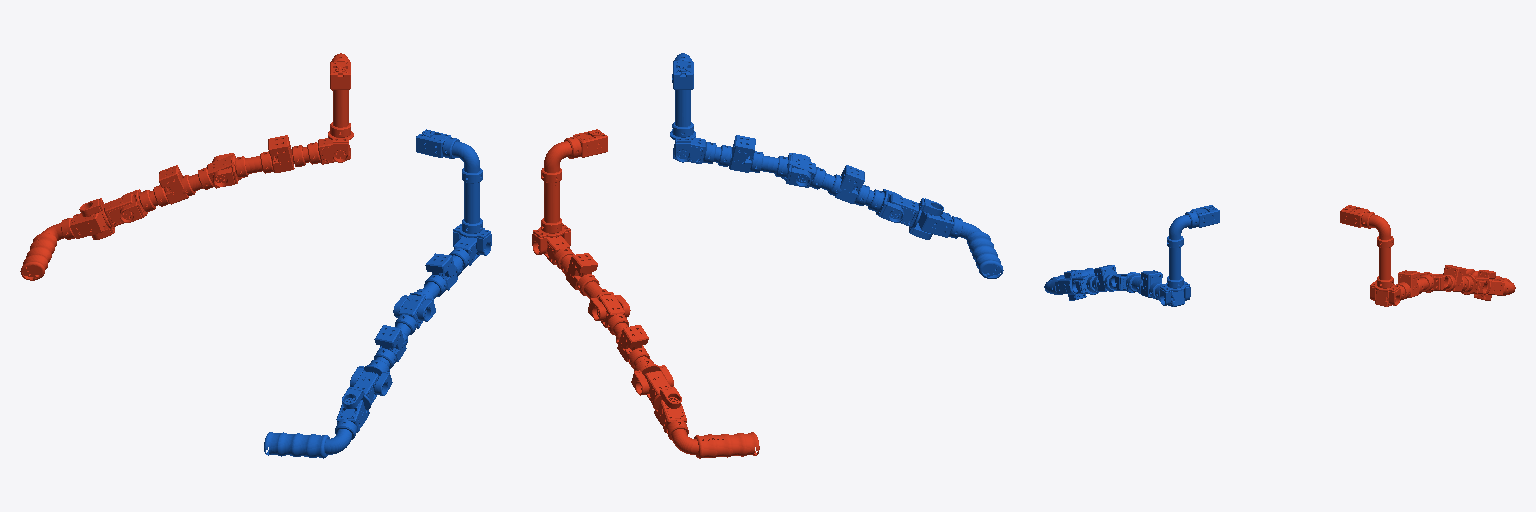
robot.urdf — dracomancer:
<?xml version='1.0' encoding='utf-8'?>
<robot name="dracomancer">
  <!--Mannequin excluded. q=0 is the CAD export pose. Continuous joints are provisional; hardware limits are unknown.-->
  <link name="base_link">
    <inertial>
      <origin xyz="0.538297841211797 7.71429791632174e-05 0.0394609993474961" rpy="0 0 0" />
      <mass value="1.12193720771918" />
      <inertia ixx="0.00608085027046048" ixy="1.6102669909721e-05" ixz="-0.00246744714079603" iyy="0.0143480736279953" iyz="1.38983508081588e-06" izz="0.01668873664382" />
    </inertial>
    <visual>
      <origin xyz="0 0 0" rpy="1.5707963267949 0 1.5707963267949" />
      <geometry>
        <mesh filename="package://dracomancer/meshes/base.stl" scale="1 1 1" />
      </geometry>
      <material name="color_base_link">
        <color rgba="0.45 0.48 0.52 1" />
      </material>
    </visual>
    <collision>
      <origin xyz="0 0 0" rpy="1.5707963267949 0 1.5707963267949" />
      <geometry>
        <mesh filename="package://dracomancer/meshes/base.stl" scale="1 1 1" />
      </geometry>
    </collision>
  </link>
  <link name="right_link1_shoulder">
    <inertial>
      <origin xyz="-2.22054765015818e-06 -0.0623248806898595 0.0537570317000164" rpy="0 0 0" />
      <mass value="0.311033190448667" />
      <inertia ixx="0.00184709302301005" ixy="-2.30803069612402e-08" ixz="8.28095308956081e-09" iyy="0.00136038129198454" iyz="0.000554003802814448" izz="0.00053989042537464" />
    </inertial>
    <visual>
      <origin xyz="0 0 0" rpy="0 0 0" />
      <geometry>
        <mesh filename="package://dracomancer/meshes/link1_shoulder.stl" scale="1 1 1" />
      </geometry>
      <material name="color_right_link1_shoulder">
        <color rgba="0.15 0.42 0.78 1" />
      </material>
    </visual>
    <collision>
      <origin xyz="0 0 0" rpy="0 0 0" />
      <geometry>
        <mesh filename="package://dracomancer/meshes/link1_shoulder.stl" scale="1 1 1" />
      </geometry>
    </collision>
  </link>
  <link name="right_link2_upper_arm_upper">
    <inertial>
      <origin xyz="-3.85946855000866e-09 -0.0295644761615872 0.000334681730333839" rpy="0 0 0" />
      <mass value="0.159071368425311" />
      <inertia ixx="0.00015395693183761" ixy="-1.98221699093399e-11" ixz="-7.39384026757579e-13" iyy="3.05732363744265e-05" iyz="-1.06306497457957e-06" izz="0.000154185767444511" />
    </inertial>
    <visual>
      <origin xyz="0 0 0" rpy="0 0 0" />
      <geometry>
        <mesh filename="package://dracomancer/meshes/link2_upper_arm_upper.stl" scale="1 1 1" />
      </geometry>
      <material name="color_right_link2_upper_arm_upper">
        <color rgba="0.15 0.42 0.78 1" />
      </material>
    </visual>
    <collision>
      <origin xyz="0 0 0" rpy="0 0 0" />
      <geometry>
        <mesh filename="package://dracomancer/meshes/link2_upper_arm_upper.stl" scale="1 1 1" />
      </geometry>
    </collision>
  </link>
  <link name="right_link3_upper_arm_lower">
    <inertial>
      <origin xyz="-2.97656988118984e-06 -0.00669352163145934 -0.0271761889340157" rpy="0 0 0" />
      <mass value="0.202851713995559" />
      <inertia ixx="0.000294829882555397" ixy="-1.46151737643307e-08" ixz="3.55109407912184e-09" iyy="0.000286653907320972" iyz="3.55213110018567e-05" izz="7.86474683477143e-05" />
    </inertial>
    <visual>
      <origin xyz="0 0 0" rpy="0 0 0" />
      <geometry>
        <mesh filename="package://dracomancer/meshes/link3_upper_arm_lower.stl" scale="1 1 1" />
      </geometry>
      <material name="color_right_link3_upper_arm_lower">
        <color rgba="0.15 0.42 0.78 1" />
      </material>
    </visual>
    <collision>
      <origin xyz="0 0 0" rpy="0 0 0" />
      <geometry>
        <mesh filename="package://dracomancer/meshes/link3_upper_arm_lower.stl" scale="1 1 1" />
      </geometry>
    </collision>
  </link>
  <link name="right_link4_lower_arm_upper">
    <inertial>
      <origin xyz="-3.85946855014225e-09 -0.0295644761615872 0.000334681730333784" rpy="0 0 0" />
      <mass value="0.159071368425311" />
      <inertia ixx="0.00015395693183761" ixy="-1.98221699232484e-11" ixz="-7.39384025317761e-13" iyy="3.05732363744266e-05" iyz="-1.06306497457958e-06" izz="0.000154185767444511" />
    </inertial>
    <visual>
      <origin xyz="0 0 0" rpy="0 0 0" />
      <geometry>
        <mesh filename="package://dracomancer/meshes/link4_lower_arm_upper.stl" scale="1 1 1" />
      </geometry>
      <material name="color_right_link4_lower_arm_upper">
        <color rgba="0.15 0.42 0.78 1" />
      </material>
    </visual>
    <collision>
      <origin xyz="0 0 0" rpy="0 0 0" />
      <geometry>
        <mesh filename="package://dracomancer/meshes/link4_lower_arm_upper.stl" scale="1 1 1" />
      </geometry>
    </collision>
  </link>
  <link name="right_link5_lower_arm_lower">
    <inertial>
      <origin xyz="-2.97656988122939e-06 -0.00669352163145912 -0.0271761889340158" rpy="0 0 0" />
      <mass value="0.202851713995559" />
      <inertia ixx="0.000294829882555399" ixy="-1.46151737642407e-08" ixz="3.55109407857361e-09" iyy="0.000286653907320974" iyz="3.55213110018573e-05" izz="7.86474683477144e-05" />
    </inertial>
    <visual>
      <origin xyz="0 0 0" rpy="0 0 0" />
      <geometry>
        <mesh filename="package://dracomancer/meshes/link5_lower_arm_lower.stl" scale="1 1 1" />
      </geometry>
      <material name="color_right_link5_lower_arm_lower">
        <color rgba="0.15 0.42 0.78 1" />
      </material>
    </visual>
    <collision>
      <origin xyz="0 0 0" rpy="0 0 0" />
      <geometry>
        <mesh filename="package://dracomancer/meshes/link5_lower_arm_lower.stl" scale="1 1 1" />
      </geometry>
    </collision>
  </link>
  <link name="right_link6_wrist_upper">
    <inertial>
      <origin xyz="0 -0.0221395746339372 0.000381004081849901" rpy="0 0 0" />
      <mass value="0.142115458481556" />
      <inertia ixx="9.32557597243337e-05" ixy="0" ixz="0" iyy="4.31340174898552e-05" iyz="-6.78069154759594e-07" izz="0.000108426371262755" />
    </inertial>
    <visual>
      <origin xyz="0 0 0" rpy="0 0 0" />
      <geometry>
        <mesh filename="package://dracomancer/meshes/link6_wrist_upper.stl" scale="1 1 1" />
      </geometry>
      <material name="color_right_link6_wrist_upper">
        <color rgba="0.15 0.42 0.78 1" />
      </material>
    </visual>
    <collision>
      <origin xyz="0 0 0" rpy="0 0 0" />
      <geometry>
        <mesh filename="package://dracomancer/meshes/link6_wrist_upper.stl" scale="1 1 1" />
      </geometry>
    </collision>
  </link>
  <link name="right_link7_wrist_lower">
    <inertial>
      <origin xyz="0.0397499857748888 -0.0627907132008446 0.000158967612462773" rpy="0 0 0" />
      <mass value="0.319082232072848" />
      <inertia ixx="0.000547068750649334" ixy="0.000415615963137919" ixz="2.1970737917657e-06" iyy="0.000717807823662787" iyz="-2.99281119292708e-06" izz="0.00120844468876245" />
    </inertial>
    <visual>
      <origin xyz="0 0 0" rpy="0 0 0" />
      <geometry>
        <mesh filename="package://dracomancer/meshes/link7_wrist_lower.stl" scale="1 1 1" />
      </geometry>
      <material name="color_right_link7_wrist_lower">
        <color rgba="0.15 0.42 0.78 1" />
      </material>
    </visual>
    <collision>
      <origin xyz="0 0 0" rpy="0 0 0" />
      <geometry>
        <mesh filename="package://dracomancer/meshes/link7_wrist_lower.stl" scale="1 1 1" />
      </geometry>
    </collision>
  </link>
  <link name="left_link1_shoulder">
    <inertial>
      <origin xyz="-2.22054765027062e-06 -0.0623248806898594 0.0537570317000164" rpy="0 0 0" />
      <mass value="0.311033190448667" />
      <inertia ixx="0.00184709302301005" ixy="-2.30803069612978e-08" ixz="8.28095308957365e-09" iyy="0.00136038129198454" iyz="0.000554003802814448" izz="0.00053989042537464" />
    </inertial>
    <visual>
      <origin xyz="0 0 0" rpy="0 0 0" />
      <geometry>
        <mesh filename="package://dracomancer/meshes/link1_shoulder.stl" scale="1 1 1" />
      </geometry>
      <material name="color_left_link1_shoulder">
        <color rgba="0.85 0.28 0.17 1" />
      </material>
    </visual>
    <collision>
      <origin xyz="0 0 0" rpy="0 0 0" />
      <geometry>
        <mesh filename="package://dracomancer/meshes/link1_shoulder.stl" scale="1 1 1" />
      </geometry>
    </collision>
  </link>
  <link name="left_link2_upper_arm_upper">
    <inertial>
      <origin xyz="-3.85946857144154e-09 -0.0295644761615872 0.000334681730333839" rpy="0 0 0" />
      <mass value="0.159071368425311" />
      <inertia ixx="0.00015395693183761" ixy="-1.98221699193977e-11" ixz="-7.3938402374252e-13" iyy="3.05732363744265e-05" iyz="-1.06306497457957e-06" izz="0.000154185767444511" />
    </inertial>
    <visual>
      <origin xyz="0 0 0" rpy="0 0 0" />
      <geometry>
        <mesh filename="package://dracomancer/meshes/link2_upper_arm_upper.stl" scale="1 1 1" />
      </geometry>
      <material name="color_left_link2_upper_arm_upper">
        <color rgba="0.85 0.28 0.17 1" />
      </material>
    </visual>
    <collision>
      <origin xyz="0 0 0" rpy="0 0 0" />
      <geometry>
        <mesh filename="package://dracomancer/meshes/link2_upper_arm_upper.stl" scale="1 1 1" />
      </geometry>
    </collision>
  </link>
  <link name="left_link3_upper_arm_lower">
    <inertial>
      <origin xyz="-2.97656988118356e-06 -0.00669352163145936 -0.0271761889340157" rpy="0 0 0" />
      <mass value="0.202851713995559" />
      <inertia ixx="0.000294829882555397" ixy="-1.46151737643352e-08" ixz="3.55109407910174e-09" iyy="0.000286653907320972" iyz="3.55213110018567e-05" izz="7.86474683477143e-05" />
    </inertial>
    <visual>
      <origin xyz="0 0 0" rpy="0 0 0" />
      <geometry>
        <mesh filename="package://dracomancer/meshes/link3_upper_arm_lower.stl" scale="1 1 1" />
      </geometry>
      <material name="color_left_link3_upper_arm_lower">
        <color rgba="0.85 0.28 0.17 1" />
      </material>
    </visual>
    <collision>
      <origin xyz="0 0 0" rpy="0 0 0" />
      <geometry>
        <mesh filename="package://dracomancer/meshes/link3_upper_arm_lower.stl" scale="1 1 1" />
      </geometry>
    </collision>
  </link>
  <link name="left_link4_lower_arm_upper">
    <inertial>
      <origin xyz="-3.85946853918842e-09 -0.0295644761615872 0.000334681730333841" rpy="0 0 0" />
      <mass value="0.159071368425311" />
      <inertia ixx="0.00015395693183761" ixy="-1.98221699253028e-11" ixz="-7.39384033229203e-13" iyy="3.05732363744266e-05" iyz="-1.06306497457956e-06" izz="0.000154185767444511" />
    </inertial>
    <visual>
      <origin xyz="0 0 0" rpy="0 0 0" />
      <geometry>
        <mesh filename="package://dracomancer/meshes/link4_lower_arm_upper.stl" scale="1 1 1" />
      </geometry>
      <material name="color_left_link4_lower_arm_upper">
        <color rgba="0.85 0.28 0.17 1" />
      </material>
    </visual>
    <collision>
      <origin xyz="0 0 0" rpy="0 0 0" />
      <geometry>
        <mesh filename="package://dracomancer/meshes/link4_lower_arm_upper.stl" scale="1 1 1" />
      </geometry>
    </collision>
  </link>
  <link name="left_link5_lower_arm_lower">
    <inertial>
      <origin xyz="-2.97656988139602e-06 -0.00669352163145911 -0.0271761889340158" rpy="0 0 0" />
      <mass value="0.202851713995559" />
      <inertia ixx="0.000294829882555399" ixy="-1.46151737642532e-08" ixz="3.55109407854969e-09" iyy="0.000286653907320974" iyz="3.55213110018573e-05" izz="7.86474683477143e-05" />
    </inertial>
    <visual>
      <origin xyz="0 0 0" rpy="0 0 0" />
      <geometry>
        <mesh filename="package://dracomancer/meshes/link5_lower_arm_lower.stl" scale="1 1 1" />
      </geometry>
      <material name="color_left_link5_lower_arm_lower">
        <color rgba="0.85 0.28 0.17 1" />
      </material>
    </visual>
    <collision>
      <origin xyz="0 0 0" rpy="0 0 0" />
      <geometry>
        <mesh filename="package://dracomancer/meshes/link5_lower_arm_lower.stl" scale="1 1 1" />
      </geometry>
    </collision>
  </link>
  <link name="left_link6_wrist_upper">
    <inertial>
      <origin xyz="0 -0.0221395746339372 0.000381004081849901" rpy="0 0 0" />
      <mass value="0.142115458481556" />
      <inertia ixx="9.32557597243337e-05" ixy="0" ixz="0" iyy="4.31340174898552e-05" iyz="-6.78069154759584e-07" izz="0.000108426371262755" />
    </inertial>
    <visual>
      <origin xyz="0 0 0" rpy="0 0 0" />
      <geometry>
        <mesh filename="package://dracomancer/meshes/link6_wrist_upper.stl" scale="1 1 1" />
      </geometry>
      <material name="color_left_link6_wrist_upper">
        <color rgba="0.85 0.28 0.17 1" />
      </material>
    </visual>
    <collision>
      <origin xyz="0 0 0" rpy="0 0 0" />
      <geometry>
        <mesh filename="package://dracomancer/meshes/link6_wrist_upper.stl" scale="1 1 1" />
      </geometry>
    </collision>
  </link>
  <link name="left_link7_wrist_lower">
    <inertial>
      <origin xyz="0.0397499857748886 -0.0627907132008445 0.000158967612462766" rpy="0 0 0" />
      <mass value="0.319082232072848" />
      <inertia ixx="0.000547068750649334" ixy="0.000415615963137919" ixz="2.19707379176584e-06" iyy="0.000717807823662786" iyz="-2.9928111929272e-06" izz="0.00120844468876245" />
    </inertial>
    <visual>
      <origin xyz="0 0 0" rpy="0 0 0" />
      <geometry>
        <mesh filename="package://dracomancer/meshes/link7_wrist_lower.stl" scale="1 1 1" />
      </geometry>
      <material name="color_left_link7_wrist_lower">
        <color rgba="0.85 0.28 0.17 1" />
      </material>
    </visual>
    <collision>
      <origin xyz="0 0 0" rpy="0 0 0" />
      <geometry>
        <mesh filename="package://dracomancer/meshes/link7_wrist_lower.stl" scale="1 1 1" />
      </geometry>
    </collision>
  </link>
  <joint name="right_joint_1" type="continuous">
    <origin xyz="0.606273192976864 -0.165000000000001 0.118000000002988" rpy="3.14159265358979 0 -2.61267538086395" />
    <parent link="base_link" />
    <child link="right_link1_shoulder" />
    <axis xyz="0 0 -1" />
  </joint>
  <joint name="right_joint_2" type="continuous">
    <origin xyz="0 -0.0957500000000009 0.19" rpy="-1.57079632679489 1.36015554101046 0" />
    <parent link="right_link1_shoulder" />
    <child link="right_link2_upper_arm_upper" />
    <axis xyz="0 0 -1" />
  </joint>
  <joint name="right_joint_3" type="continuous">
    <origin xyz="0 -0.10975 0" rpy="-1.57079632679491 1.44467080178209 0" />
    <parent link="right_link2_upper_arm_upper" />
    <child link="right_link3_upper_arm_lower" />
    <axis xyz="0 0 -1" />
  </joint>
  <joint name="right_joint_4" type="continuous">
    <origin xyz="0 0 -0.102000000000001" rpy="1.57079632679489 0.200599455542163 -1.5707963267949" />
    <parent link="right_link3_upper_arm_lower" />
    <child link="right_link4_lower_arm_upper" />
    <axis xyz="0 0 -1" />
  </joint>
  <joint name="right_joint_5" type="continuous">
    <origin xyz="0 -0.10975 0" rpy="1.5707963267949 1.4488957434623 -3.14159265358979" />
    <parent link="right_link4_lower_arm_upper" />
    <child link="right_link5_lower_arm_lower" />
    <axis xyz="0 0 1" />
  </joint>
  <joint name="right_joint_6" type="continuous">
    <origin xyz="0 0 -0.102000000000003" rpy="1.5707963267949 -0.0116000594150987 -1.57079632679491" />
    <parent link="right_link5_lower_arm_lower" />
    <child link="right_link6_wrist_upper" />
    <axis xyz="0 0 -1" />
  </joint>
  <joint name="right_joint_7" type="continuous">
    <origin xyz="0 -0.0707499999999921 0" rpy="1.57079632679492 -1.37330369135277 -1.57079632679492" />
    <parent link="right_link6_wrist_upper" />
    <child link="right_link7_wrist_lower" />
    <axis xyz="0 0 -1" />
  </joint>
  <joint name="left_joint_1" type="continuous">
    <origin xyz="0.606273192976864 0.165000000000001 0.118000000002988" rpy="3.14159265358979 0 -0.528917272725839" />
    <parent link="base_link" />
    <child link="left_link1_shoulder" />
    <axis xyz="0 0 -1" />
  </joint>
  <joint name="left_joint_2" type="continuous">
    <origin xyz="0 -0.0957500000000009 0.189999999999999" rpy="-1.57079632679489 -1.36015554101046 0" />
    <parent link="left_link1_shoulder" />
    <child link="left_link2_upper_arm_upper" />
    <axis xyz="0 0 -1" />
  </joint>
  <joint name="left_joint_3" type="continuous">
    <origin xyz="0 -0.10975 0" rpy="-1.57079632679491 -1.44467080178209 0" />
    <parent link="left_link2_upper_arm_upper" />
    <child link="left_link3_upper_arm_lower" />
    <axis xyz="0 0 -1" />
  </joint>
  <joint name="left_joint_4" type="continuous">
    <origin xyz="0 0 -0.102000000000001" rpy="1.57079632679489 -0.200599455542163 1.5707963267949" />
    <parent link="left_link3_upper_arm_lower" />
    <child link="left_link4_lower_arm_upper" />
    <axis xyz="0 0 -1" />
  </joint>
  <joint name="left_joint_5" type="continuous">
    <origin xyz="0 -0.10975 0" rpy="1.5707963267949 -1.44889574346231 3.14159265358979" />
    <parent link="left_link4_lower_arm_upper" />
    <child link="left_link5_lower_arm_lower" />
    <axis xyz="0 0 1" />
  </joint>
  <joint name="left_joint_6" type="continuous">
    <origin xyz="0 0 -0.102000000000003" rpy="1.5707963267949 0.0116000594150988 1.57079632679491" />
    <parent link="left_link5_lower_arm_lower" />
    <child link="left_link6_wrist_upper" />
    <axis xyz="0 0 -1" />
  </joint>
  <joint name="left_joint_7" type="continuous">
    <origin xyz="0.00223345866813776 -0.0707499999999922 0" rpy="1.57079632679488 -1.37330369135277 -1.57079632679488" />
    <parent link="left_link6_wrist_upper" />
    <child link="left_link7_wrist_lower" />
    <axis xyz="0 0 -1" />
  </joint>
</robot>

--- Facts derived from the render (not from the file) ---
Views: 3 orthographic renders of the robot side by side, from view 1: azimuth 30°, elevation 25°; view 2: azimuth 150°, elevation 25°; view 3: azimuth 270°, elevation 25°.
Robot: dracomancer — 15 links, 14 joints (14 continuous); root link base_link; default pose: all joints at 0.
Links seen in each view (by area): view 1: right_link1_shoulder, right_link7_wrist_lower, left_link7_wrist_lower, left_link1_shoulder, left_link3_upper_arm_lower, left_link5_lower_arm_lower, right_link5_lower_arm_lower, right_link3_upper_arm_lower, left_link6_wrist_upper, right_link6_wrist_upper, left_link2_upper_arm_upper, left_link4_lower_arm_upper (+2 smaller); view 2: left_link1_shoulder, left_link7_wrist_lower, right_link7_wrist_lower, right_link1_shoulder, right_link3_upper_arm_lower, right_link5_lower_arm_lower, left_link5_lower_arm_lower, left_link3_upper_arm_lower, right_link6_wrist_upper, left_link6_wrist_upper, right_link2_upper_arm_upper, right_link4_lower_arm_upper (+2 smaller); view 3: left_link1_shoulder, right_link1_shoulder, right_link3_upper_arm_lower, left_link3_upper_arm_lower, left_link5_lower_arm_lower, right_link5_lower_arm_lower.
Boxes of the visible links, box(x1,y1,x2,y2) form: right_link1_shoulder: box(416, 129, 491, 255); right_link7_wrist_lower: box(264, 400, 365, 458); left_link7_wrist_lower: box(20, 211, 105, 280); left_link1_shoulder: box(328, 53, 353, 162); left_link3_upper_arm_lower: box(212, 135, 294, 186); left_link5_lower_arm_lower: box(120, 165, 188, 222); right_link5_lower_arm_lower: box(350, 325, 406, 395); right_link3_upper_arm_lower: box(393, 253, 457, 321); left_link6_wrist_upper: box(79, 194, 134, 239); right_link6_wrist_upper: box(342, 371, 378, 426); left_link2_upper_arm_upper: box(292, 138, 350, 166); left_link4_lower_arm_upper: box(182, 155, 242, 195); left_link1_shoulder: box(532, 129, 607, 254); left_link7_wrist_lower: box(658, 400, 759, 458); right_link7_wrist_lower: box(918, 211, 1003, 278); right_link1_shoulder: box(670, 53, 695, 162); right_link3_upper_arm_lower: box(729, 135, 810, 186); right_link5_lower_arm_lower: box(835, 165, 903, 222); left_link5_lower_arm_lower: box(617, 325, 673, 395); left_link3_upper_arm_lower: box(566, 253, 630, 320); right_link6_wrist_upper: box(888, 193, 943, 239); left_link6_wrist_upper: box(645, 371, 681, 424); right_link2_upper_arm_upper: box(673, 137, 731, 166); right_link4_lower_arm_upper: box(781, 154, 841, 195); left_link1_shoulder: box(1340, 205, 1400, 305); right_link1_shoulder: box(1160, 205, 1219, 305); right_link3_upper_arm_lower: box(1111, 270, 1162, 297); left_link3_upper_arm_lower: box(1398, 270, 1448, 297); left_link5_lower_arm_lower: box(1443, 265, 1487, 294); right_link5_lower_arm_lower: box(1072, 265, 1116, 294).
Size in the robot's own frame: 0.6046 by 1.11 by 0.4367 metres.
14 mesh visuals loaded from 8 distinct referenced files (7 binary STL); not drawn: 1 (reference not matched to a file when rendering).
